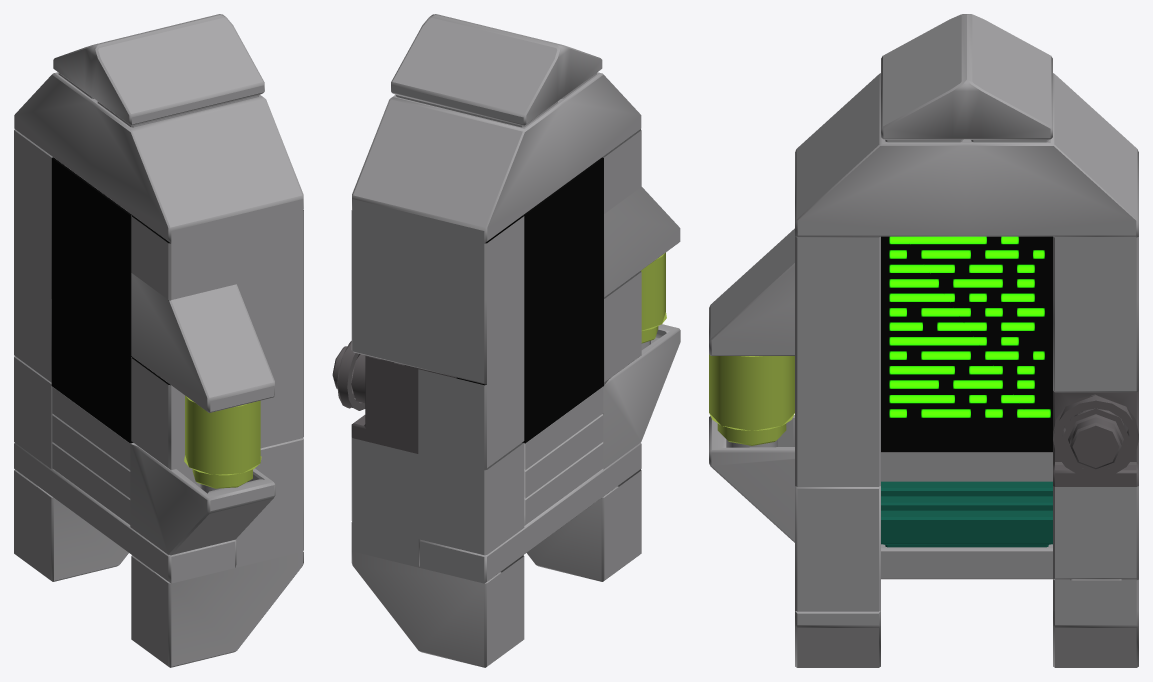
File: Lego_ShipCogitator.fbx
3 views of the same model, side by side, from view 1: azimuth 30°, elevation 25°; view 2: azimuth 150°, elevation 25°; view 3: azimuth 270°, elevation 25° (orthographic). The views are drawn at different scales.
Parts seen in each view (by area): view 1: Console, Screen, Light; view 2: Console, Screen, Light; view 3: Console, Screen, Light.
Boxes of the visible parts, <box> form: Console: <box>14,14,303,667</box>; Screen: <box>51,157,170,443</box>; Light: <box>184,395,261,488</box>; Console: <box>332,14,680,667</box>; Screen: <box>456,157,603,443</box>; Light: <box>641,252,666,343</box>; Console: <box>709,14,1138,667</box>; Screen: <box>881,236,1052,452</box>; Light: <box>709,354,794,445</box>.
Size of the model in its own units: 0.4809 by 1.6 by 1.
